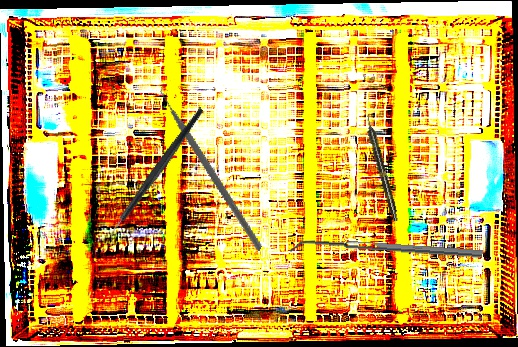Chopper: (115, 75, 311, 252), (75, 106, 239, 248)
Handpiece: (362, 112, 401, 223)
Spatula Surgical: (290, 236, 483, 266)
